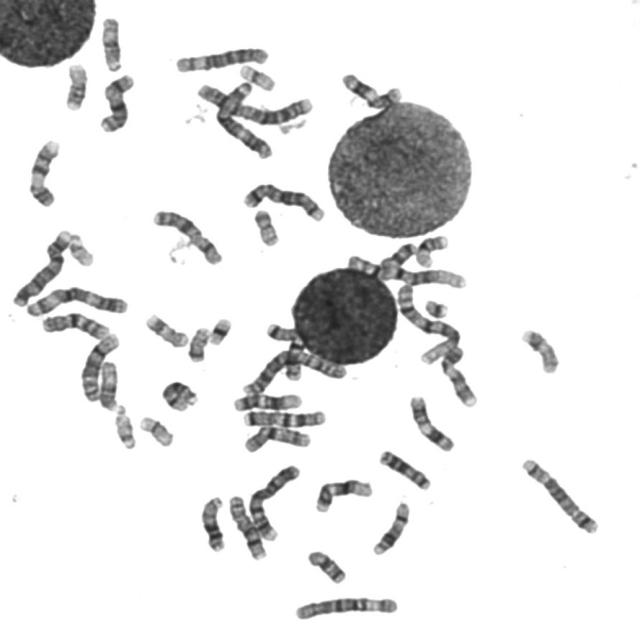A1: (391, 278, 465, 366), (342, 250, 470, 291)
A2: (192, 77, 316, 128), (237, 345, 350, 396)
A3: (208, 75, 276, 160), (22, 282, 132, 318)
B4: (9, 224, 74, 309), (246, 460, 304, 542)
B5: (518, 452, 603, 536), (239, 177, 329, 223)
C10: (38, 308, 113, 341), (241, 422, 314, 454)
C11: (405, 389, 458, 454), (339, 68, 406, 110)
C12: (312, 474, 376, 514), (228, 388, 305, 412)
C6: (291, 590, 402, 622), (172, 42, 272, 74)
C7: (262, 318, 305, 383), (240, 406, 329, 428)
C8: (77, 329, 123, 404), (225, 490, 270, 562)
C9: (438, 341, 482, 409), (25, 134, 64, 209)
D13: (376, 445, 434, 492), (197, 491, 229, 553)
D14: (369, 497, 414, 557), (159, 380, 199, 412)
D15: (98, 12, 126, 72), (96, 356, 122, 413)
E16: (60, 59, 91, 112), (411, 229, 452, 269)
E17: (518, 323, 564, 375), (142, 309, 192, 349)
E18: (304, 546, 349, 586), (377, 238, 419, 271)
F19: (136, 412, 178, 448), (236, 58, 280, 92)
F20: (250, 205, 283, 248), (185, 322, 212, 364)
G21: (205, 313, 235, 346), (421, 294, 452, 320)
G22: (65, 229, 98, 269), (111, 406, 139, 451)
X: (148, 204, 226, 266), (96, 68, 138, 134)
